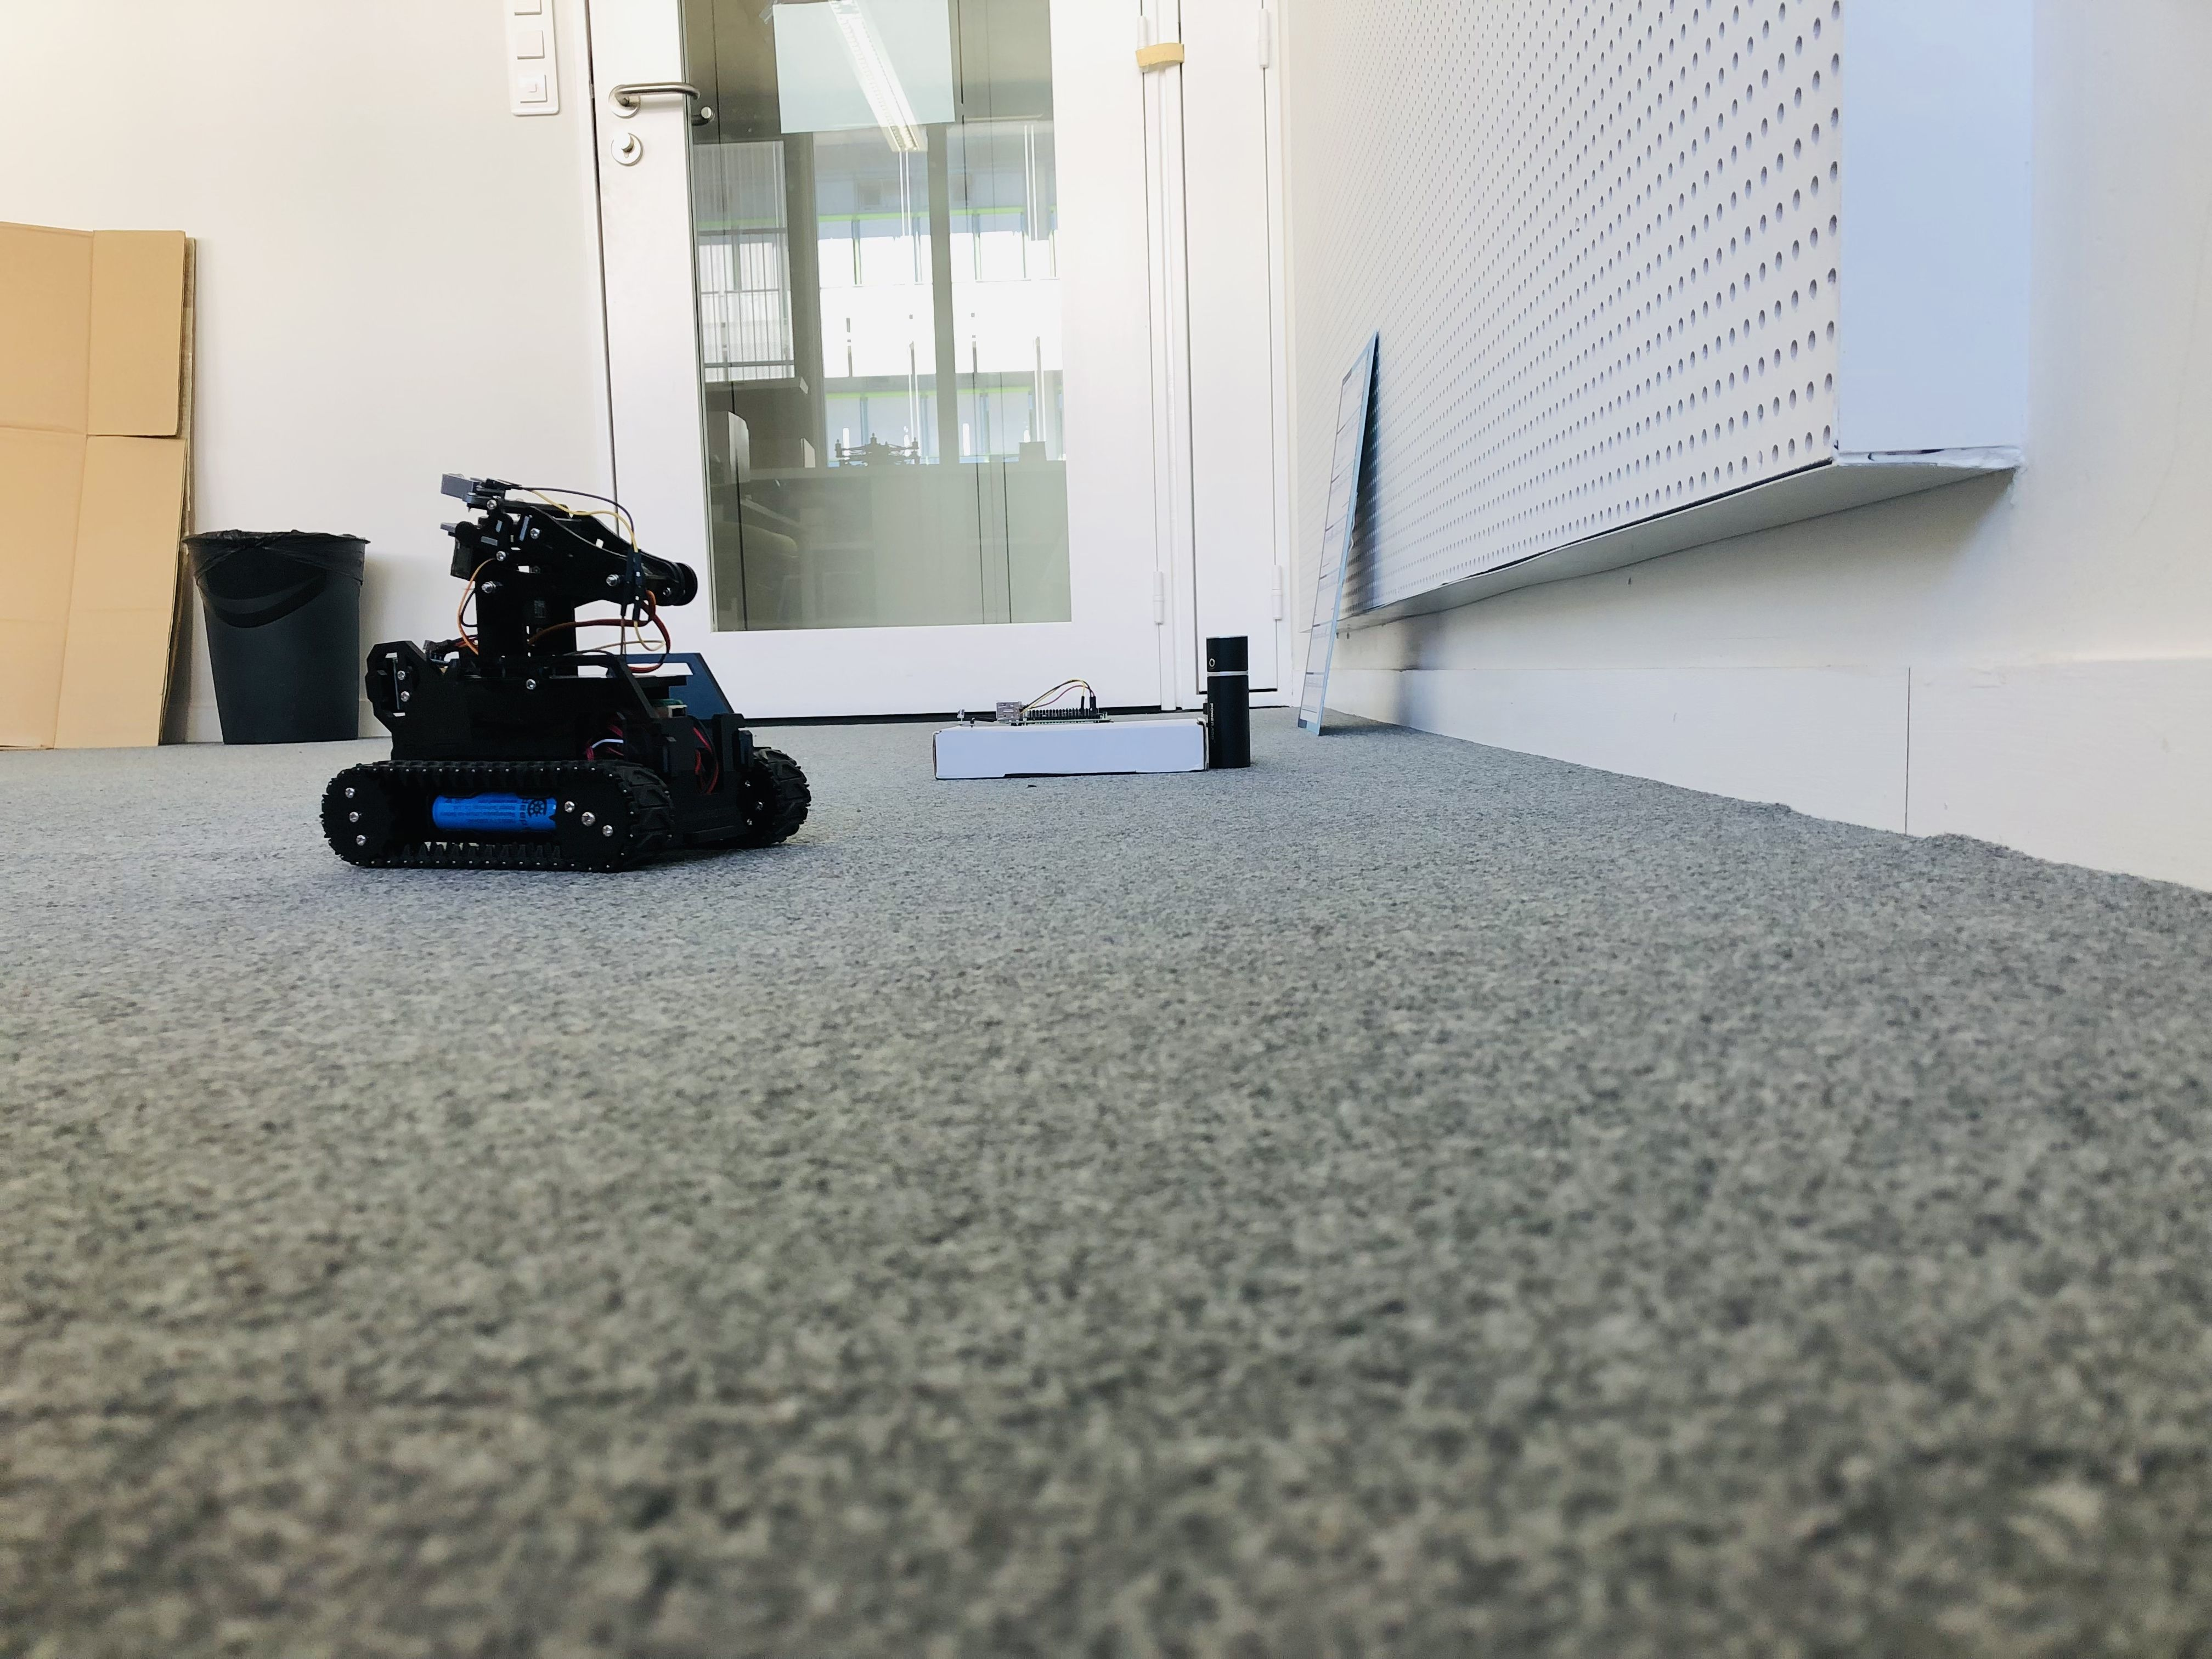rasptank: (315, 469, 812, 870)
